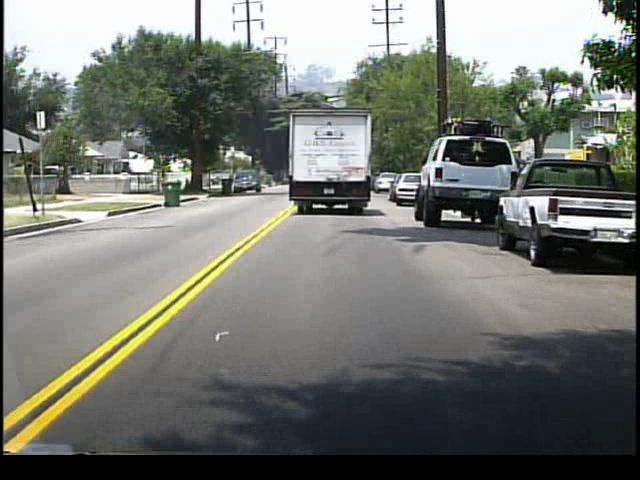person: (159, 167, 170, 194)
